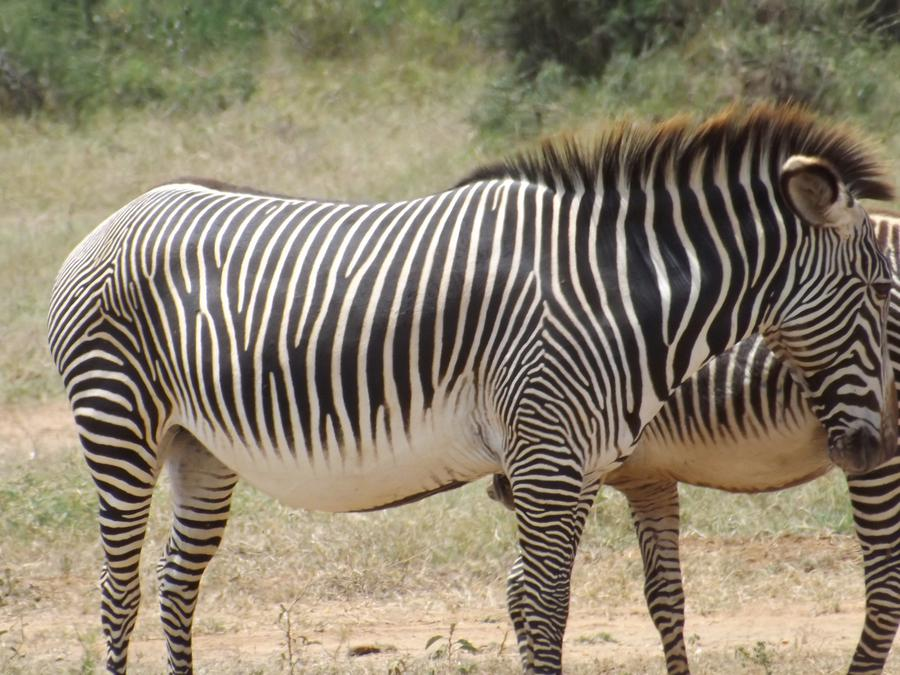zebra_grevys: (38, 173, 604, 483)
